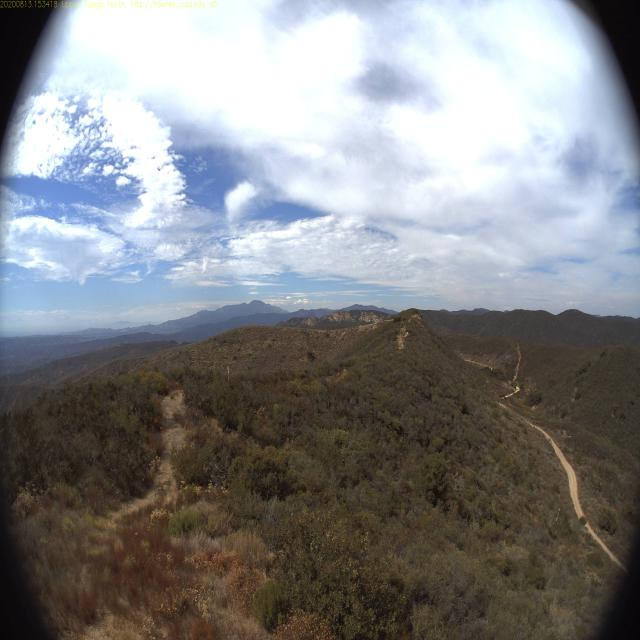smoke: (158, 314, 170, 334)
